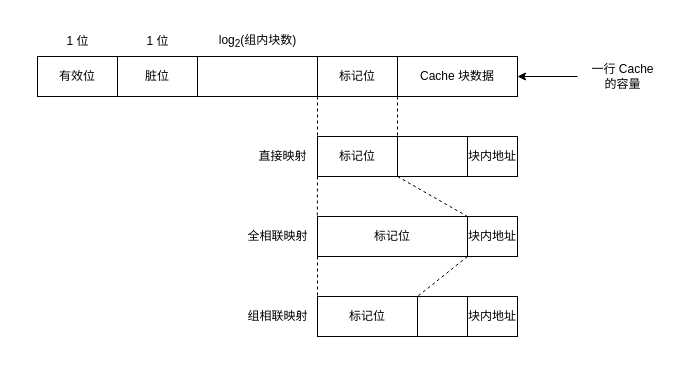
Image size: 684x373. Some labels were removed from this diagram. The shapes that lost their labels are listed below. From the top down, each one's box as (x1, y1, x2, y2) in pixels, then its label:
(196, 56, 318, 96): LRU 位
(396, 136, 468, 176): Cache 行号
(416, 296, 468, 336): 组号
